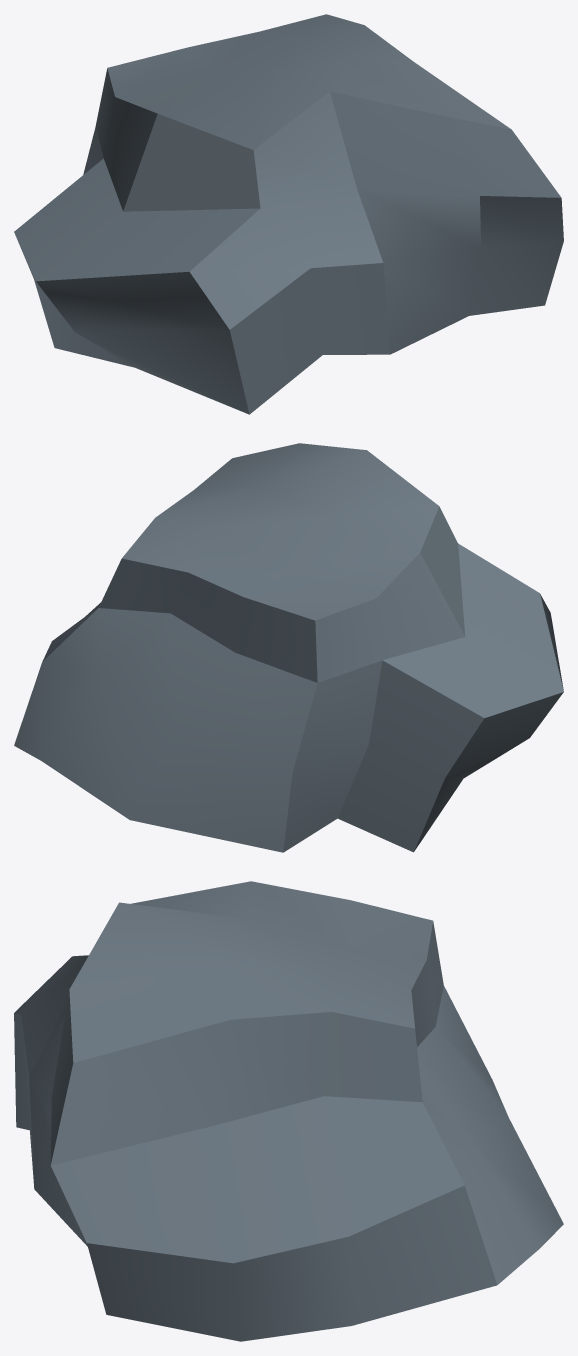
File: Roca_01.fbx
The picture shows the model from 3 angles, top to bottom: view 1: azimuth 30°, elevation 25°; view 2: azimuth 150°, elevation 25°; view 3: azimuth 270°, elevation 25°; orthographic projection. The views are drawn at different scales.
Parts seen in each view (by area): view 1: Roca_01; view 2: Roca_01; view 3: Roca_01.
Part boxes in pixels (<box>): Roca_01: <box>14,14,563,414</box>; Roca_01: <box>14,443,563,852</box>; Roca_01: <box>14,881,563,1341</box>.
Size of the model in its own units: 4.3 by 2.48 by 3.64.
